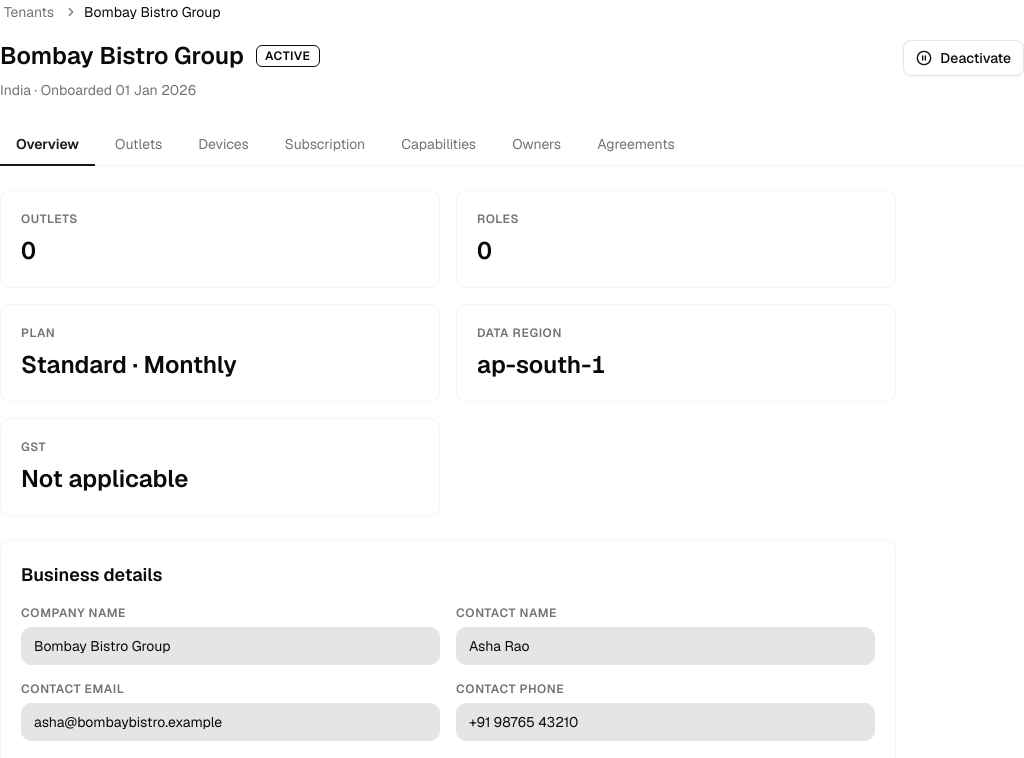
Test: TenantDetailPage lifecycle actions › shows Deactivate (not Reactivate) for an active tenant and posts the reason
Click the button with test id "tenant-deactivate" at (964, 58), box [903,40,1023,76]
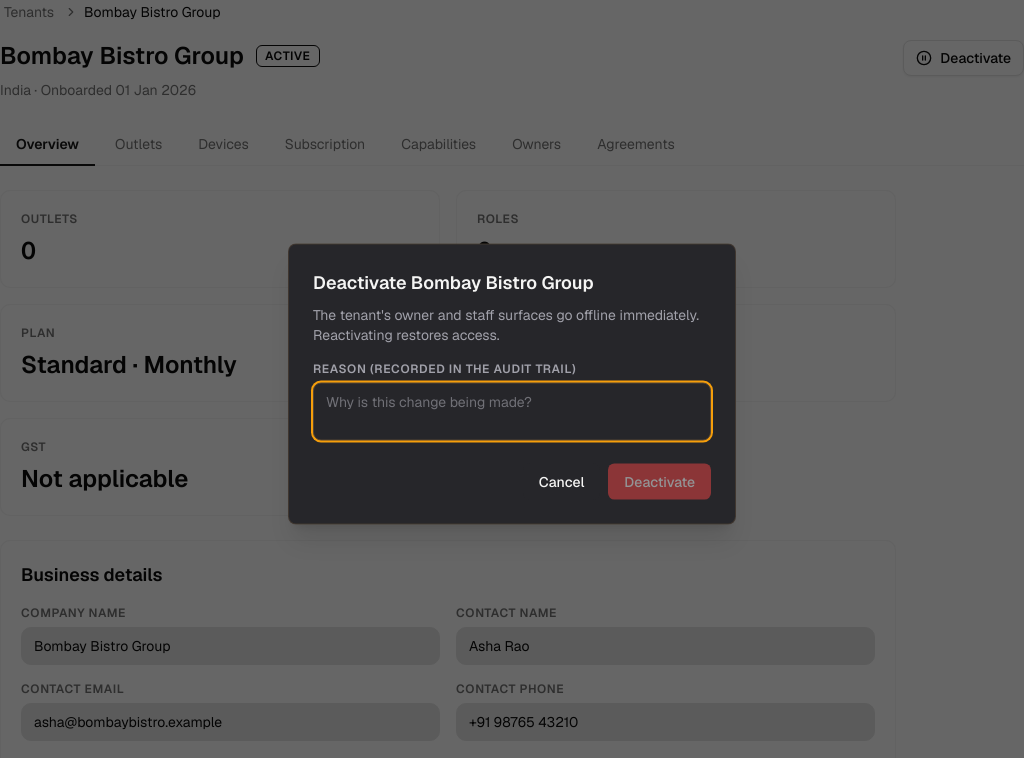
Type "Non-payment" into the text box with test id "confirm-reason" at (512, 412), box [313,382,711,440]
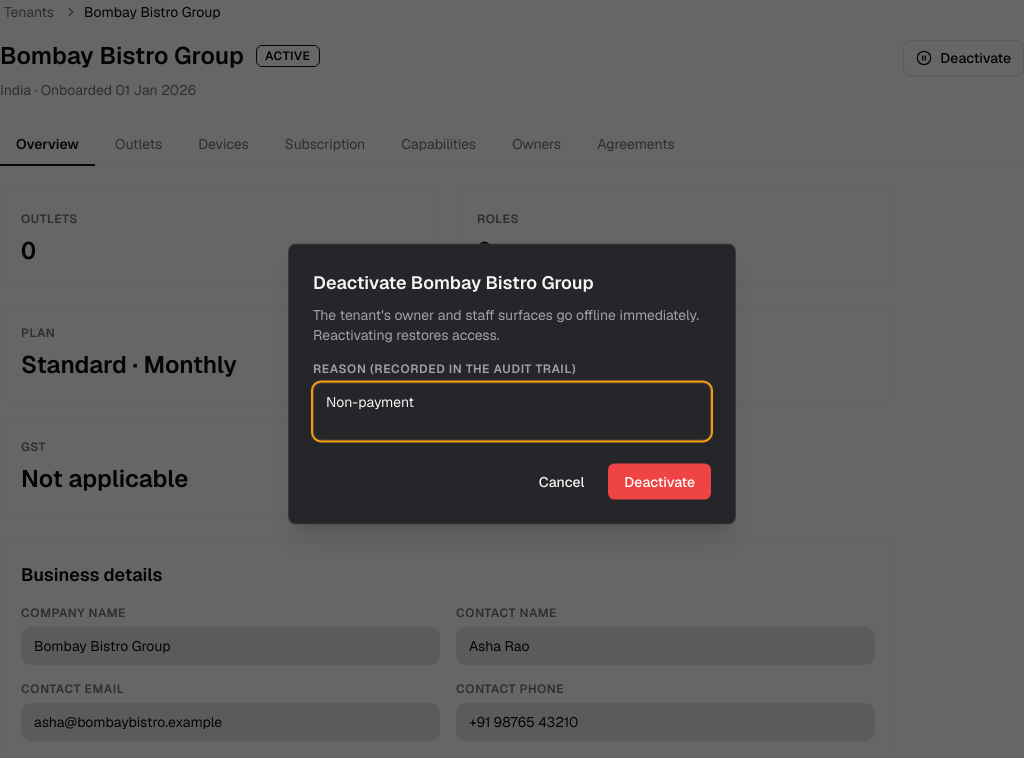
Click the button with test id "confirm-submit" at (660, 482), box [608,464,711,500]
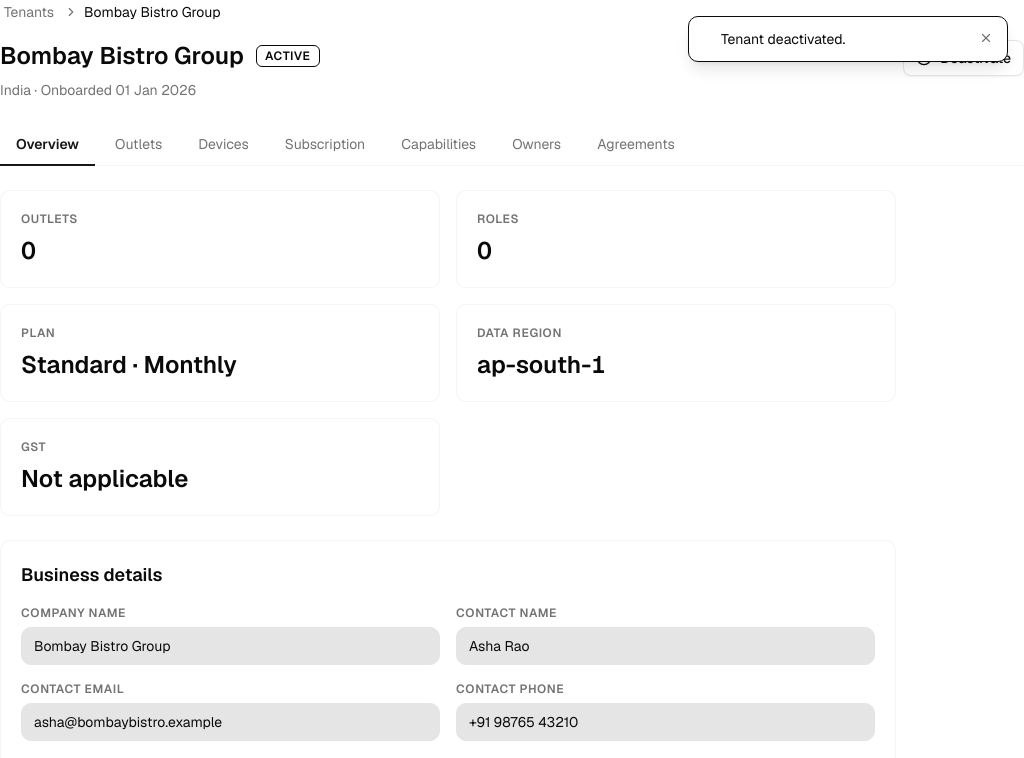
Now the element with test id "toast-success" is shown, box [688,16,1008,62]
